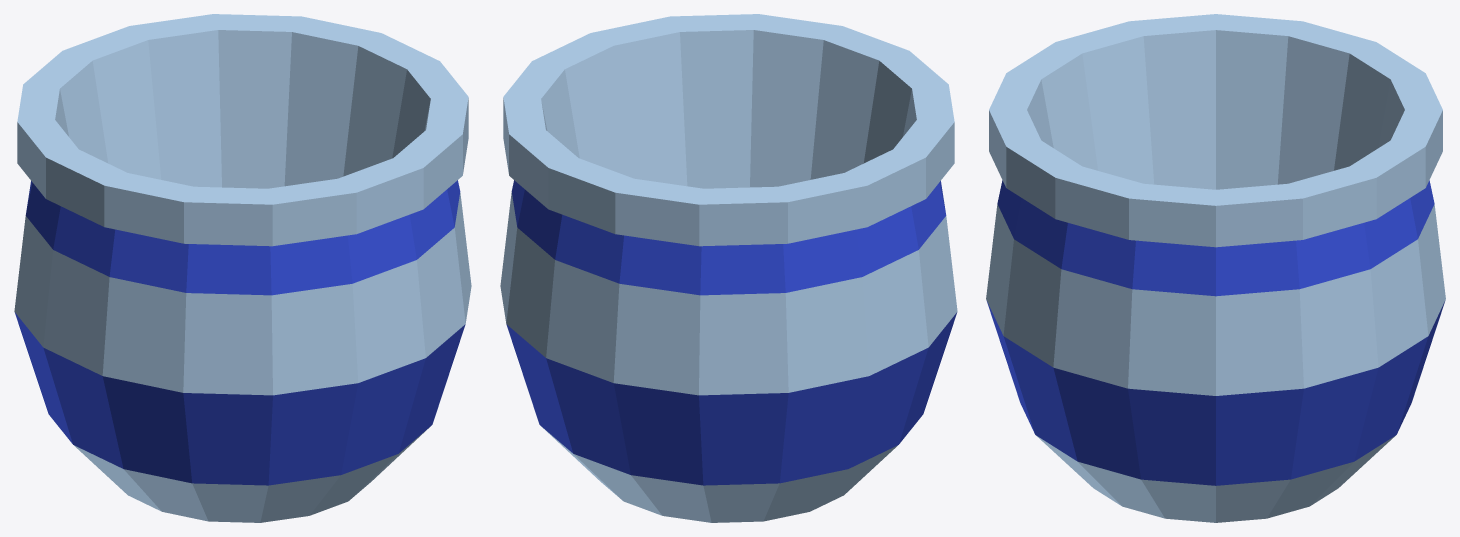
File: Pot_Large.fbx
3 views of the same model, side by side, from view 1: azimuth 30°, elevation 25°; view 2: azimuth 150°, elevation 25°; view 3: azimuth 270°, elevation 25° (orthographic).
Visible parts, largest first — view 1: Pot_Large; view 2: Pot_Large; view 3: Pot_Large.
Part boxes in pixels (x1,y1,x2,y2): Pot_Large: [14, 14, 471, 522]; Pot_Large: [500, 14, 957, 522]; Pot_Large: [986, 14, 1445, 522].
Size of the model in its own units: 57.7 by 49.42 by 57.7.
